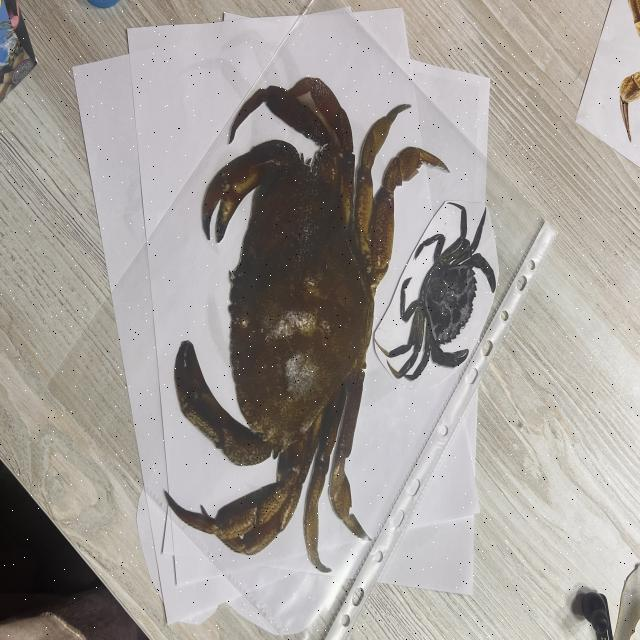European_Green_Crab: (367, 177, 524, 416)
